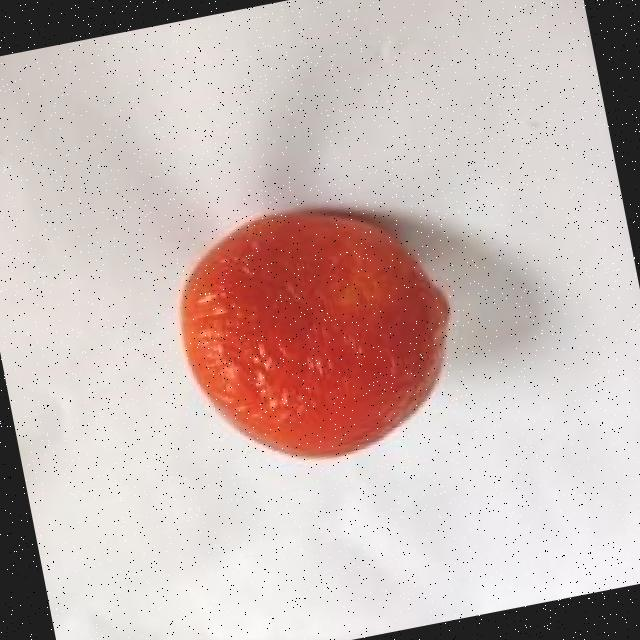overripe: (162, 185, 478, 482)
